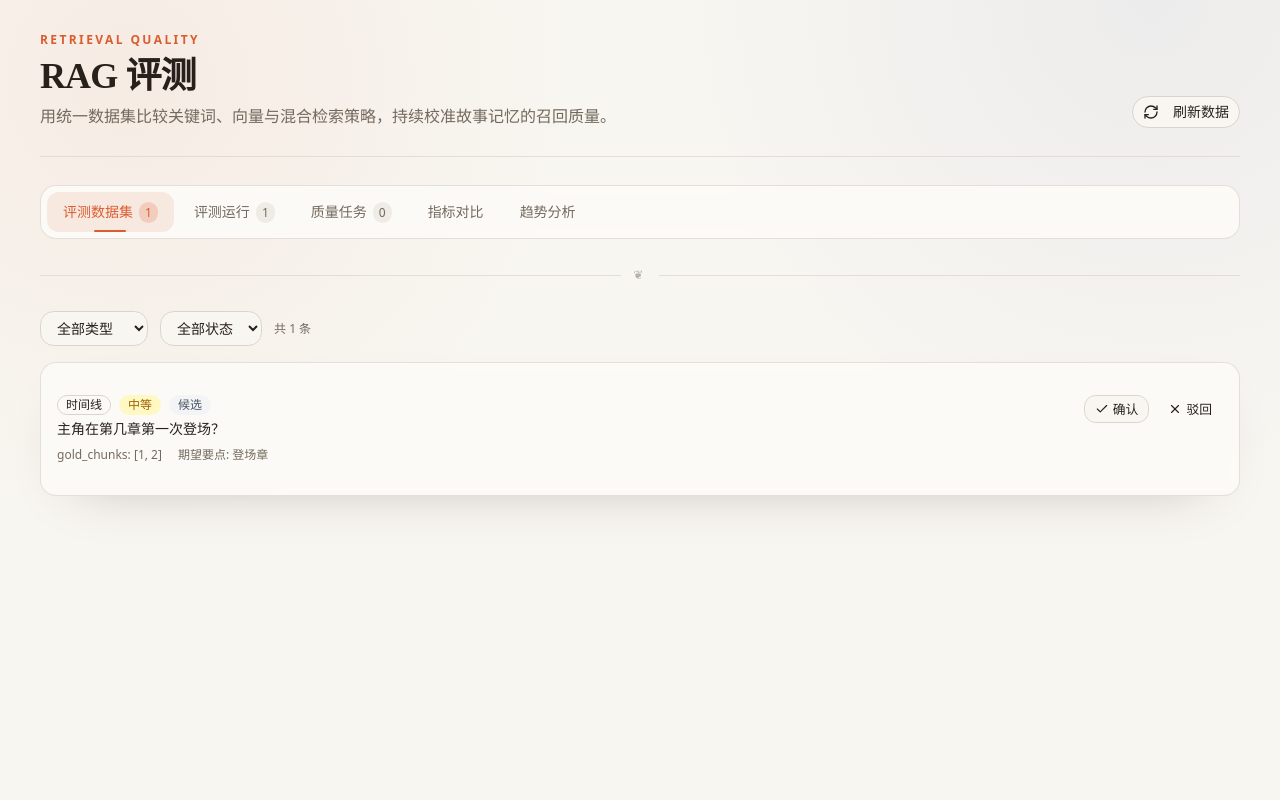
Scenario: EvalPage main › 切换到评测运行面板并查看报告
Expected: the heading "RAG 评测" is shown, [40,56,196,96]
Click the button "评测运行1" at point(234, 212), box [178,192,291,232]
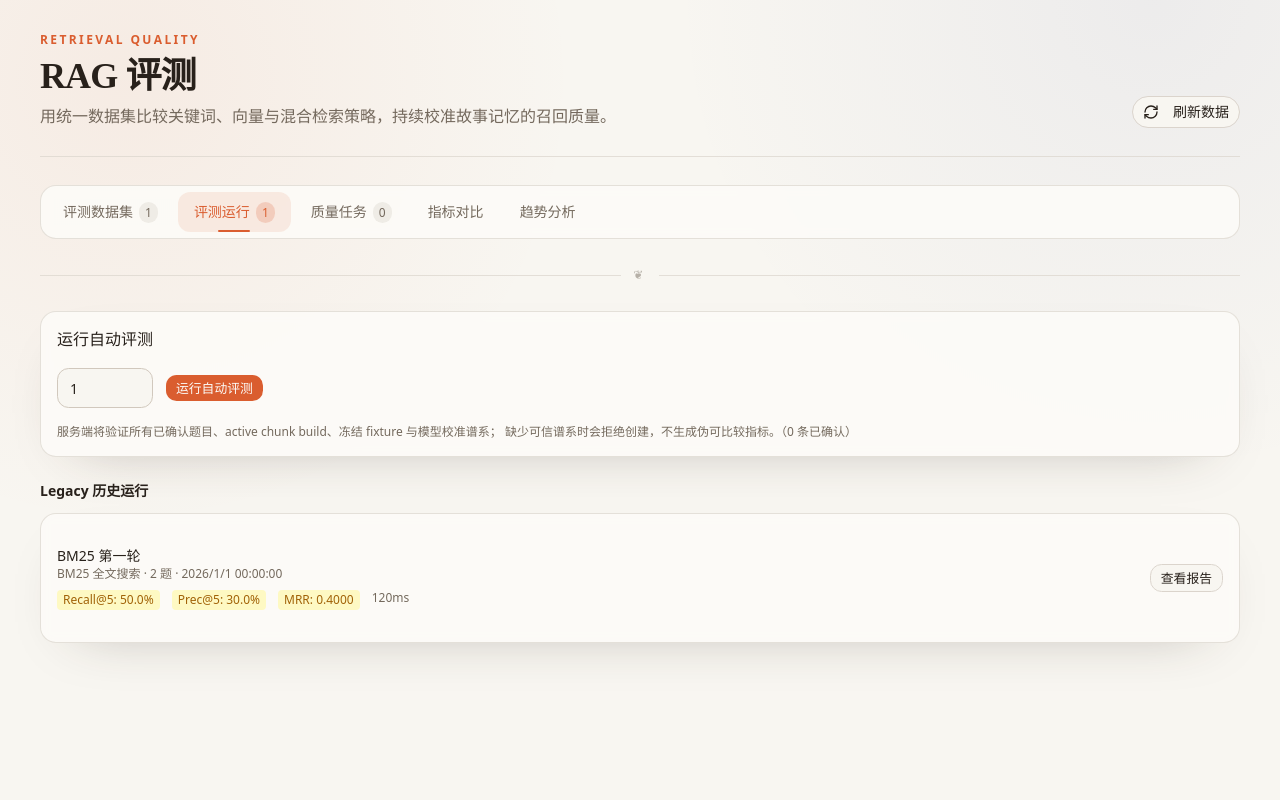
Now the text "BM25 第一轮" is shown, box [57,546,140,565]
Now the text "BM25 全文搜索 · 2 题 · 2026/1/1 00:00:00" is shown, box [57,565,282,582]
Click the button "查看报告" at point(1186, 578), box [1150,564,1223,592]
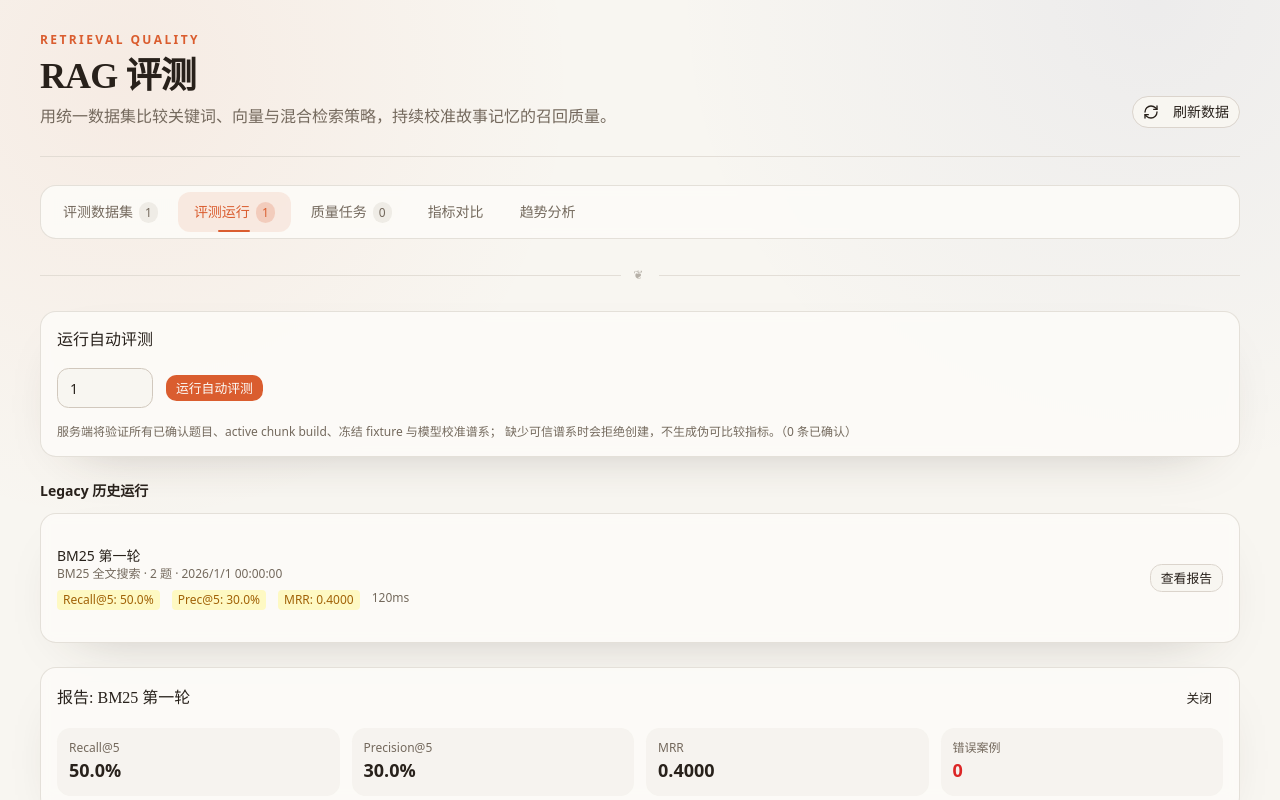
Now the text "报告: BM25 第一轮" is shown, box [57,686,190,710]
